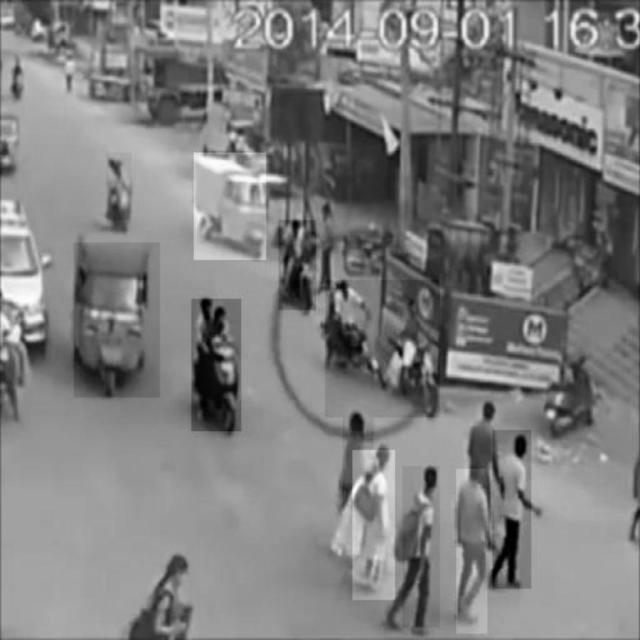accident: (325, 280, 439, 417)
person: (353, 450, 395, 600), (402, 467, 440, 627), (493, 430, 531, 588), (457, 469, 487, 634), (343, 405, 373, 508)
vehicle: (74, 242, 160, 398), (194, 152, 266, 260), (191, 299, 241, 431), (279, 220, 316, 310), (107, 153, 132, 220)
